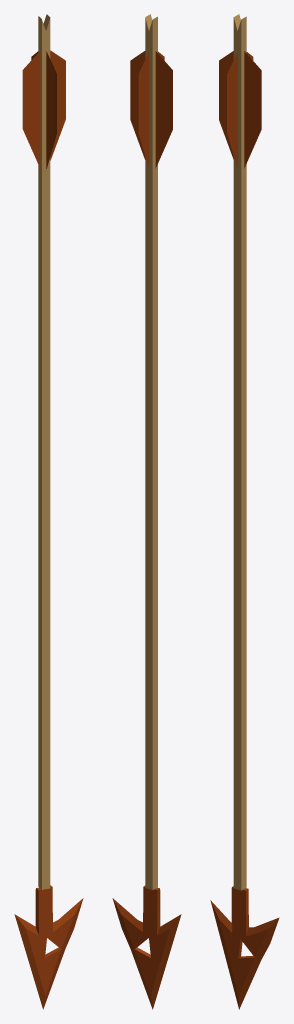
Rendered from Arrow_8.fbx.
3 views of the same model, side by side, from view 1: azimuth 30°, elevation 25°; view 2: azimuth 150°, elevation 25°; view 3: azimuth 330°, elevation 25° (orthographic).
Visible parts, largest first — view 1: Comp_Arrow_08; view 2: Comp_Arrow_08; view 3: Comp_Arrow_08.
Boxes of the visible parts, box(x1,y1,x2,y2) form: Comp_Arrow_08: box(14, 14, 83, 1009); Comp_Arrow_08: box(112, 14, 181, 1009); Comp_Arrow_08: box(210, 14, 279, 1009).
Bounding box in the file's own units: 13.14 × 180 × 8.
